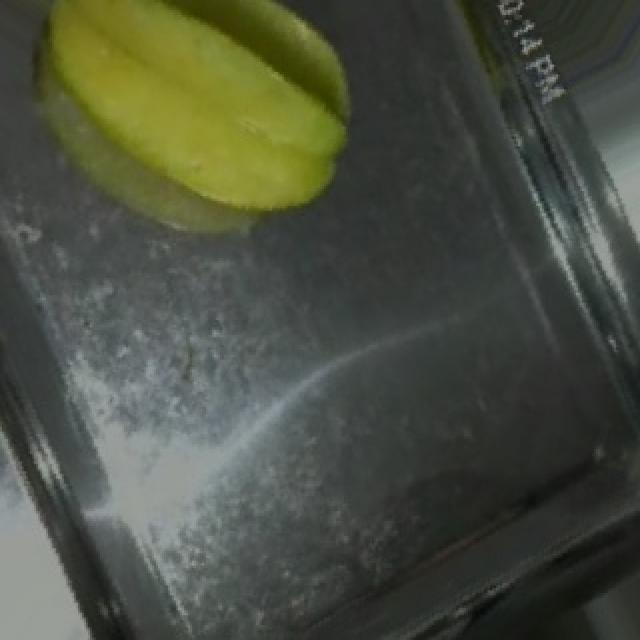fruit: (16, 2, 406, 278), (422, 0, 640, 104)
